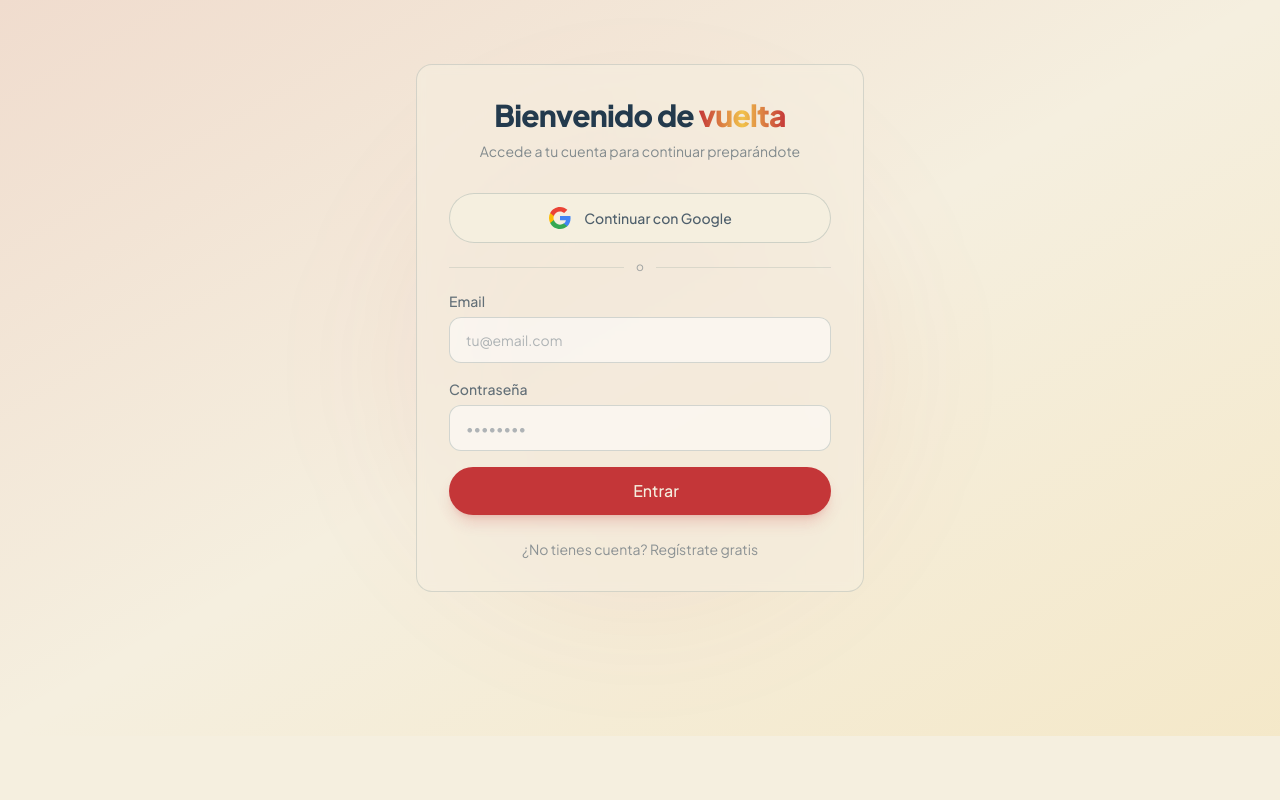
Test case: Login component › shows validation error for invalid email
The image size is (1280, 800).
In the field with placeholder "tu@email.com": [640, 340] box [449,317,831,363], type "not-an-email"
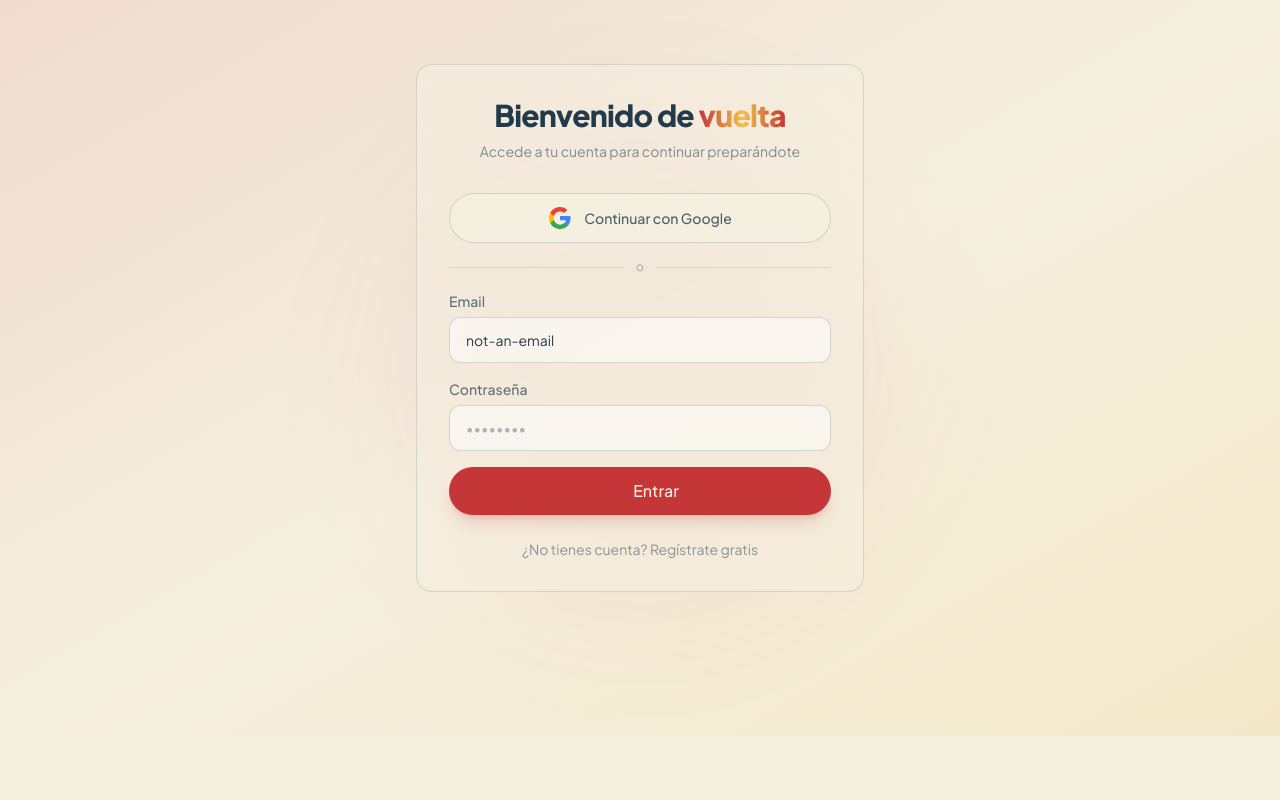
Click the button "Entrar": [640, 491] box [449,467,831,515]
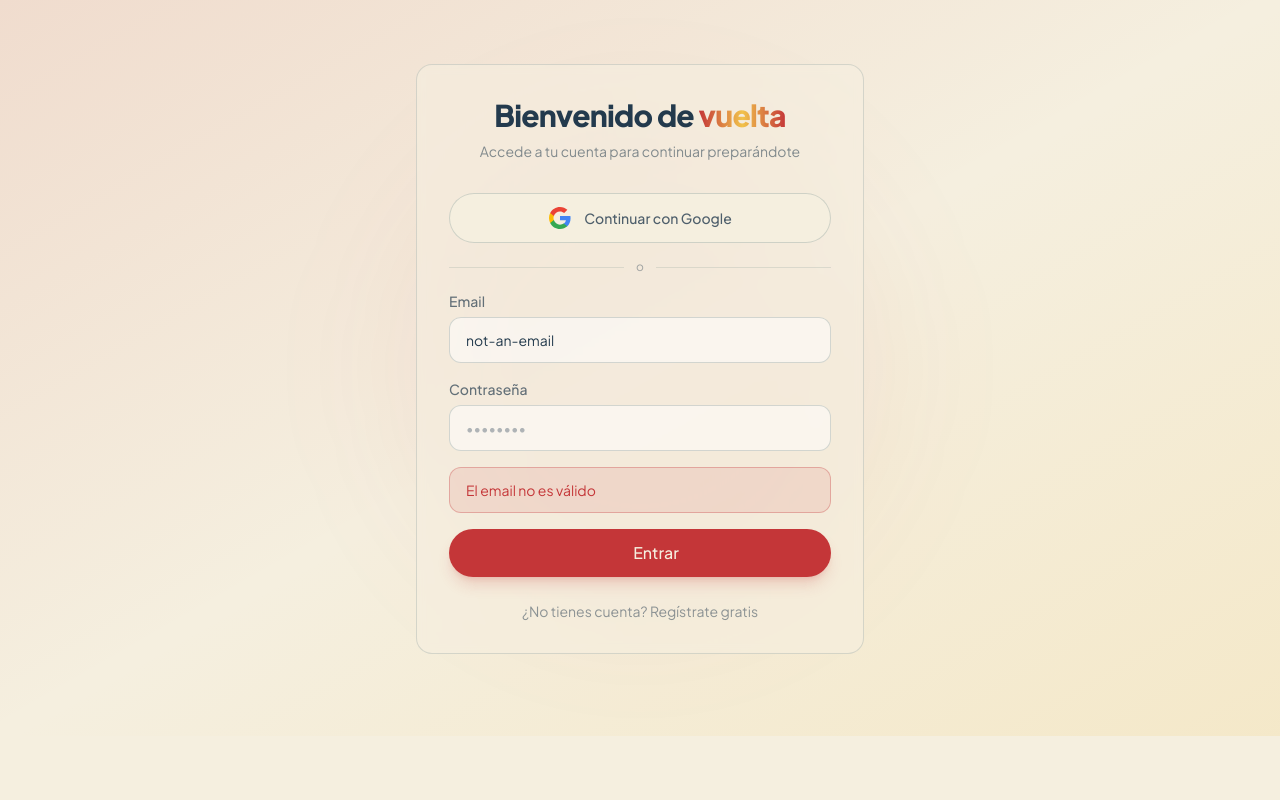
Now the text "El email no es válido" is shown, box [449,467,831,513]
